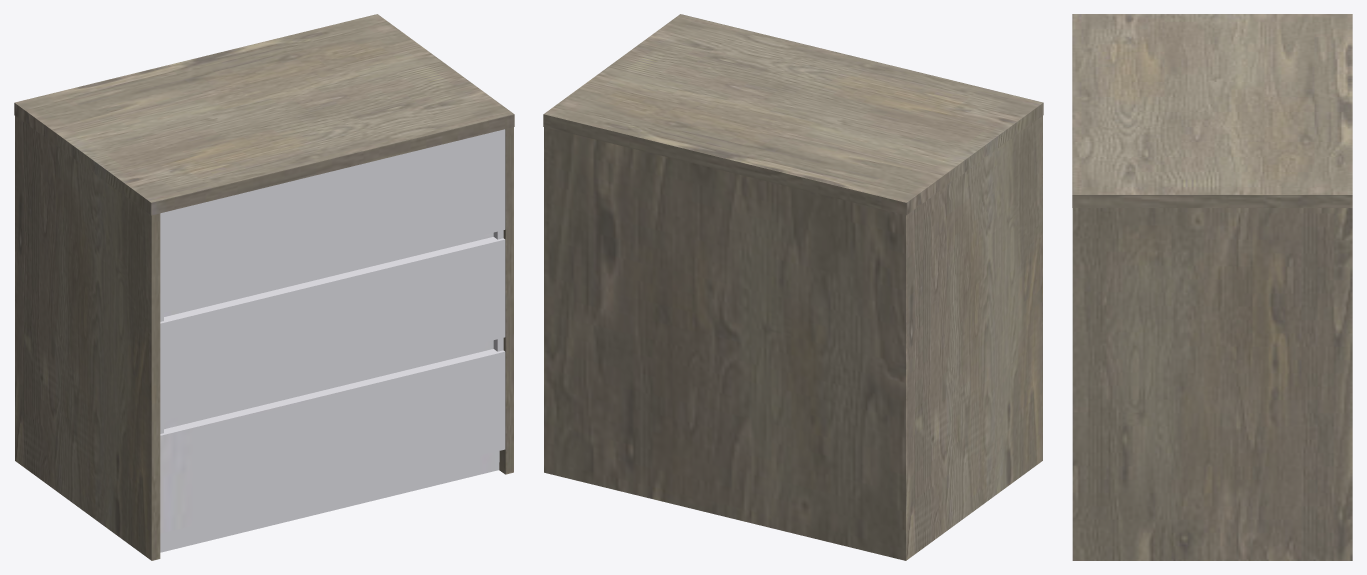
The model's file is B07GFRP9RY.glb.
3 renders of one model, left to right at view 1: azimuth 30°, elevation 25°; view 2: azimuth 150°, elevation 25°; view 3: azimuth 270°, elevation 25°, orthographic. The views are drawn at different scales.
Visible parts, largest first — view 1: RootNode; view 2: RootNode; view 3: RootNode.
Part boxes in pixels (x1=…): RootNode: x1=14, y1=14, x2=514, y2=560; RootNode: x1=543, y1=14, x2=1043, y2=560; RootNode: x1=1072, y1=14, x2=1352, y2=560.
Bounding box in the file's own units: 0.8086 × 0.7623 × 0.5286.
Materials: 1 (1 with a texture image).
